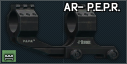Burris AR-P.E.P.R. 30mm ring mount: (0, 0, 127, 64)
